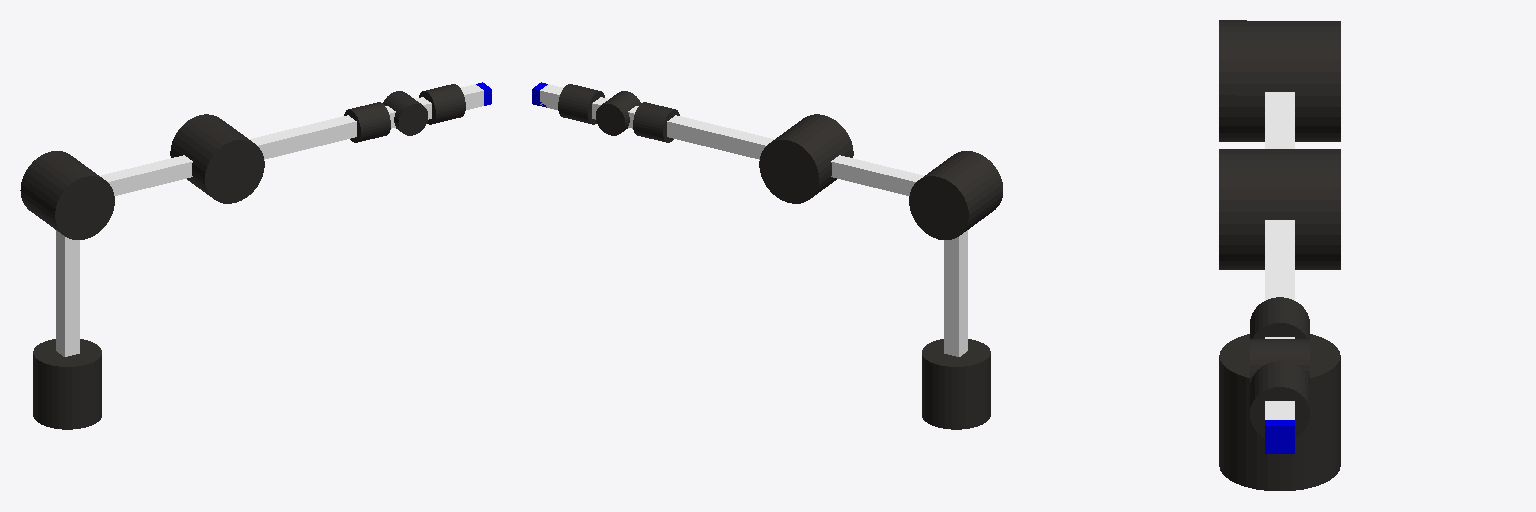
robot.urdf — morpheus:
<?xml version="0.0" ?>
<robot name="morpheus">
  <link name="shoulder">
    <inertial>
      <origin rpy="0 0 0" xyz="0 0 0"/>
       <mass value=".01"/>
       <inertia ixx="0" ixy="0" ixz="0" iyy="0" iyz="0" izz="0"/>
    </inertial>
    <visual>
      <origin rpy="0 0 0" xyz="0 0 0.1"/>
      <geometry>
        <cylinder radius="0.1" length="0.2"/>
      </geometry>
       <material name="grey">
        <color rgba="0.23 0.22 0.21 1"/>
      </material>
    </visual>
    <collision>
      <origin rpy="0 0 0" xyz="0 0 0.1"/>
      <geometry>
       <cylinder radius="0.1" length="0.2"/>
      </geometry>
    </collision>
  </link>

  <link name="elbow">
    <inertial>
      <origin rpy="0 0 0" xyz="0 0 0"/>
       <mass value=".000000001"/>
       <inertia ixx="0" ixy="0" ixz="0" iyy="0" iyz="0" izz="0"/>
    </inertial>
    <visual>
      <origin rpy="0 0 0" xyz="0 0 0.25"/>
      <geometry>
        <box size="0.05 0.05 0.5"/>
      </geometry>
       <material name="white">
        <color rgba="1 1 1 1"/>
      </material>
    </visual>
    <collision>
      <origin rpy="0 0 0" xyz="0 0 0.25"/>
      <geometry>
       <box size="0.05 0.05 0.5"/>
      </geometry>
    </collision>
  </link>

  <joint name="shoulder_to_elbow" type="revolute">
    <parent link="shoulder"/>
    <child link="elbow"/>
    <origin rpy="0 0 0" xyz="0 0 0.2"/>
    <axis xyz="0 0 1"/>
    <limit lower="-3.1415" upper="3.1415" effort="10" velocity="0.25"/>
  </joint>

  <link name="cap">
    <inertial>
      <origin rpy="0 0 0" xyz="0 0 0"/>
       <mass value=".000000001"/>
       <inertia ixx="0" ixy="0" ixz="0" iyy="0" iyz="0" izz="0"/>
    </inertial>
    <visual>
      <origin rpy="1.57 0  0" xyz="0 0 0.05"/>
      <geometry>
        <cylinder radius="0.1" length="0.2"/>
      </geometry>
       <material name="grey">
        <color rgba="0.23 0.22 0.21 1"/>
      </material>
    </visual>
    <collision>
      <origin rpy="1.57 0  0 " xyz="0 0 0.05"/>
      <geometry>
       <cylinder radius="0.1" length="0.2"/>
      </geometry>
    </collision>
  </link>

  <joint name="elbow_to_cap" type="fixed">
    <parent link="elbow"/>
    <child link="cap"/>
    <origin rpy="0 0 0" xyz="0 0 0.45"/>
    <axis xyz="0 0 1"/>
  </joint>

  <link name="ulna">
    <inertial>
      <origin rpy="0 1.57 0" xyz="0 0 0"/>
       <mass value=".000000001"/>
       <inertia ixx="0" ixy="0" ixz="0" iyy="0" iyz="0" izz="0"/>
    </inertial>
    <visual>
      <origin rpy="0 1.57 0" xyz="0.25 0 0"/>
      <geometry>
        <box size="0.05 0.05 0.5"/>
      </geometry>
       <material name="white">
        <color rgba="1 1 1 1"/>
      </material>
    </visual>
    <collision>
      <origin rpy="0 1.57 0" xyz="0.25 0 0"/>
      <geometry>
       <box size="0.05 0.05 0.5"/>
      </geometry>
    </collision>
  </link>

  <joint name="cap_to_ulna" type="revolute">
    <parent link="cap"/>
    <child link="ulna"/>
    <origin rpy="0 0 0" xyz="0 0 0.05"/>
    <axis xyz="0 1 0"/>
    <limit lower="-3.1415" upper="3.1415" effort="10" velocity="0.25"/>
  </joint>

  <link name="carpal">
    <inertial>
      <origin rpy="0 0 0" xyz="0 0 0"/>
       <mass value=".000000001"/>
       <inertia ixx="0" ixy="0" ixz="0" iyy="0" iyz="0" izz="0"/>
    </inertial>
    <visual>
      <origin rpy="1.57 0  0" xyz="0 0 0.0"/>
      <geometry>
        <cylinder radius="0.1" length="0.2"/>
      </geometry>
       <material name="grey">
        <color rgba="0.23 0.22 0.21 1"/>
      </material>
    </visual>
    <collision>
      <origin rpy="1.57 0  0 " xyz="0 0 0.0"/>
      <geometry>
       <cylinder radius="0.1" length="0.2"/>
      </geometry>
    </collision>
  </link>

  <joint name="ulna_to_carpal" type="fixed">
    <parent link="ulna"/>
    <child link="carpal"/>
    <origin rpy="0 0 0" xyz="0.5 0 0"/>
    <axis xyz="0 0 1"/>
  </joint>

  <!-- Stem -->
  <link name="phalange">
    <inertial>
      <origin rpy="0 1.57 0" xyz="0 0 0"/>
       <mass value=".000000001"/>
       <inertia ixx="0" ixy="0" ixz="0" iyy="0" iyz="0" izz="0"/>
    </inertial>
    <visual>
      <origin rpy="0 1.57 0" xyz="0.25 0 0"/>
      <geometry>
        <box size="0.05 0.05 0.5"/>
      </geometry>
       <material name="white">
        <color rgba="1 1 1 1"/>
      </material>
    </visual>
    <collision>
      <origin rpy="0 1.57 0" xyz="0.25 0 0"/>
      <geometry>
       <box size="0.05 0.05 0.5"/>
      </geometry>
    </collision>
  </link>

  <joint name="carpal_to_phalange" type="revolute">
    <parent link="carpal"/>
    <child link="phalange"/>
    <origin rpy="0 0 0" xyz="0 0 0"/>
    <axis xyz="0 1 0"/>
    <limit lower="-3.1415" upper="3.1415" effort="10" velocity="0.25"/>
  </joint>

  <!-- <link name="ee">
    <inertial>
      <origin rpy="0 1.57 0" xyz="0 0 0"/>
       <mass value=".000000001"/>
       <inertia ixx="0" ixy="0" ixz="0" iyy="0" iyz="0" izz="0"/>
    </inertial>
    <visual>
      <origin rpy="0 1.57 0" xyz="0.0 0 0"/>
      <geometry>
        <box size="0.05 0.05 0.05"/>
      </geometry>
       <material name="blue">
        <color rgba="0.01 0.01 1 1"/>
      </material>
    </visual>
    <collision>
      <origin rpy="0 1.57 0" xyz="0.0 0 0"/>
      <geometry>
       <box size="0.05 0.05 0.05"/>
      </geometry>
    </collision>
  </link>

  <joint name="phalange_to_ee" type="fixed">
    <parent link="phalange"/>
    <child link="ee"/>
    <origin rpy="0 0 0" xyz="0.5 0. 0.0"/>
  </joint> -->

  <link name="j4">
    <inertial>
      <origin rpy="0 0 0" xyz="0 0 0"/>
       <mass value=".000000001"/>
       <inertia ixx="0" ixy="0" ixz="0" iyy="0" iyz="0" izz="0"/>
    </inertial>
    <visual>
      <origin rpy="0 1.57  0" xyz="0 0 0.0"/>
      <geometry>
        <cylinder radius="0.05" length="0.1"/>
      </geometry>
       <material name="grey">
        <color rgba="0.23 0.22 0.21 1"/>
      </material>
    </visual>
    <collision>
      <origin rpy="0 1.57  0 " xyz="0 0 0.0"/>
      <geometry>
       <cylinder radius="0.05" length="0.1"/>
      </geometry>
    </collision>
  </link>

  <joint name="phalange_to_j4" type="fixed">
    <parent link="phalange"/>
    <child link="j4"/>
    <origin rpy="0 0 0" xyz="0.5 0. 0.0"/>
  </joint> 

  <link name="l4">
    <inertial>
      <origin rpy="0 1.57 0" xyz="0 0 0"/>
       <mass value=".000000001"/>
       <inertia ixx="0" ixy="0" ixz="0" iyy="0" iyz="0" izz="0"/>
    </inertial>
    <visual>
      <origin rpy="0 1.57 0" xyz="0.0625 0 0"/>
      <geometry>
        <box size="0.05 0.05 0.125"/>
      </geometry>
       <material name="white">
        <color rgba="1 1 1 1"/>
      </material>
    </visual>
    <collision>
      <origin rpy="0 1.57 0" xyz="0.0625 0 0"/>
      <geometry>
       <box size="0.05 0.05 0.125"/>
      </geometry>
    </collision>
  </link>

  <joint name="j4_to_l4" type="revolute">
    <parent link="j4"/>
    <child link="l4"/>
    <origin rpy="0 0 0" xyz="0 0 0"/>
    <axis xyz="1 0 0"/>
    <limit lower="-3.1415" upper="3.1415" effort="10" velocity="0.25"/>
  </joint>

  <link name="j5">
    <inertial>
      <origin rpy="0 0 0" xyz="0 0 0"/>
       <mass value=".000000001"/>
       <inertia ixx="0" ixy="0" ixz="0" iyy="0" iyz="0" izz="0"/>
    </inertial>
    <visual>
      <origin rpy="1.57 0  0" xyz="0 0 0.0"/>
      <geometry>
        <cylinder radius="0.05" length="0.1"/>
      </geometry>
       <material name="grey">
        <color rgba="0.23 0.22 0.21 1"/>
      </material>
    </visual>
    <collision>
      <origin rpy="1.57 0  0 " xyz="0 0 0.0"/>
      <geometry>
       <cylinder radius="0.05" length="0.1"/>
      </geometry>
    </collision>
  </link>

  <joint name="l4_to_j5" type="fixed">
    <parent link="l4"/>
    <child link="j5"/>
    <origin rpy="0 0 0" xyz="0.125 0 0"/>
    <axis xyz="0 0 1"/>
  </joint>

 <!--  ]]]]] -->
 <link name="l5">
    <inertial>
      <origin rpy="0 1.57 0" xyz="0 0 0"/>
       <mass value=".000000001"/>
       <inertia ixx="0" ixy="0" ixz="0" iyy="0" iyz="0" izz="0"/>
    </inertial>
    <visual>
      <origin rpy="0 1.57 0" xyz="0.0625 0 0"/>
      <geometry>
        <box size="0.05 0.05 0.125"/>
      </geometry>
       <material name="white">
        <color rgba="1 1 1 1"/>
      </material>
    </visual>
    <collision>
      <origin rpy="0 1.57 0" xyz="0.0625 0 0"/>
      <geometry>
       <box size="0.05 0.05 0.125"/>
      </geometry>
    </collision>
  </link>

  <joint name="j4_to_l5" type="revolute">
    <parent link="j5"/>
    <child link="l5"/>
    <origin rpy="0 0 0" xyz="0 0 0"/>
    <axis xyz="0 1 0"/>
    <limit lower="-3.1415" upper="3.1415" effort="10" velocity="0.25"/>
  </joint>
 
<!--last-->
<link name="j6">
    <inertial>
      <origin rpy="0 0 0" xyz="0 0 0"/>
       <mass value=".000000001"/>
       <inertia ixx="0" ixy="0" ixz="0" iyy="0" iyz="0" izz="0"/>
    </inertial>
    <visual>
      <origin rpy="0 1.57  0" xyz="0 0 0.0"/>
      <geometry>
        <cylinder radius="0.05" length="0.1"/>
      </geometry>
       <material name="grey">
        <color rgba="0.23 0.22 0.21 1"/>
      </material>
    </visual>
    <collision>
      <origin rpy="0 1.57  0 " xyz="0 0 0.0"/>
      <geometry>
       <cylinder radius="0.05" length="0.1"/>
      </geometry>
    </collision>
  </link>

  <joint name="l5_to_j6" type="fixed">
    <parent link="l5"/>
    <child link="j6"/>
    <origin rpy="0 0 0" xyz="0.125 0 0"/>
    <axis xyz="0 0 1"/>
  </joint>

  <!-- ... -->
   <link name="l6">
    <inertial>
      <origin rpy="0 1.57 0" xyz="0 0 0"/>
       <mass value=".000000001"/>
       <inertia ixx="0" ixy="0" ixz="0" iyy="0" iyz="0" izz="0"/>
    </inertial>
    <visual>
      <origin rpy="0 1.57 0" xyz="0.0625 0 0"/>
      <geometry>
        <box size="0.05 0.05 0.125"/>
      </geometry>
       <material name="white">
        <color rgba="1 1 1 1"/>
      </material>
    </visual>
    <collision>
      <origin rpy="0 1.57 0" xyz="0.0625 0 0"/>
      <geometry>
       <box size="0.05 0.05 0.125"/>
      </geometry>
    </collision>
  </link>

  <joint name="j6_to_l6" type="revolute">
    <parent link="j6"/>
    <child link="l6"/>
    <origin rpy="0 0 0" xyz="0 0 0"/>
    <axis xyz="1 0 0"/>
    <limit lower="-3.1415" upper="3.1415" effort="10" velocity="0.25"/>
  </joint>
  
<link name="ee">
    <inertial>
      <origin rpy="0 0 0" xyz="0 0 0"/>
       <mass value=".000000001"/>
       <inertia ixx="0" ixy="0" ixz="0" iyy="0" iyz="0" izz="0"/>
    </inertial>
    <visual>
      <origin rpy="0 0 0" xyz="0. 0 0"/>
      <geometry>
        <box size="0.05 0.05 0.05"/>
      </geometry>
       <material name="blue">
        <color rgba="0.01 0.01 1 1"/>
      </material>
    </visual>
    <collision>
      <origin rpy="0 0 0" xyz="0. 0 0"/>
      <geometry>
       <box size="0.05 0.05 0.05"/>
      </geometry>
    </collision>
  </link>

  <joint name="l6_to_ee" type="fixed">
    <parent link="l6"/>
    <child link="ee"/>
    <origin rpy="0 0 0" xyz="0.125 0 0"/>
  </joint>



</robot>

--- Facts derived from the render (not from the file) ---
The picture shows the robot from 3 angles, left to right: view 1: azimuth 30°, elevation 25°; view 2: azimuth 150°, elevation 25°; view 3: azimuth 270°, elevation 25°; orthographic projection.
Model morpheus with 13 links and 12 joints (6 revolute, 6 fixed), rooted at shoulder, posed every joint at zero.
Visible links, largest first — view 1: cap, carpal, shoulder, elbow, phalange, ulna, j5, j4, j6; view 2: cap, carpal, shoulder, elbow, phalange, ulna, j5, j4, j6; view 3: cap, carpal, shoulder, j6, phalange, j4, ulna, j5, ee, l6.
Boxes of the visible links, x1,y1,x2,y2 form: cap: [20, 151, 114, 239]; carpal: [170, 114, 264, 203]; shoulder: [33, 339, 101, 429]; elbow: [56, 230, 79, 356]; phalange: [249, 115, 356, 159]; ulna: [100, 155, 192, 195]; j5: [383, 91, 427, 135]; j4: [344, 102, 390, 142]; j6: [419, 84, 465, 124]; cap: [909, 151, 1002, 239]; carpal: [759, 114, 853, 203]; shoulder: [922, 339, 990, 429]; elbow: [944, 230, 967, 356]; phalange: [667, 115, 774, 159]; ulna: [831, 155, 923, 195]; j5: [596, 91, 640, 135]; j4: [633, 102, 679, 142]; j6: [558, 84, 604, 124]; cap: [1219, 20, 1340, 141]; carpal: [1219, 149, 1340, 269]; shoulder: [1219, 334, 1340, 490]; j6: [1250, 361, 1309, 437]; phalange: [1265, 220, 1294, 300]; j4: [1250, 297, 1309, 338]; ulna: [1265, 92, 1294, 148]; j5: [1250, 339, 1309, 382]; ee: [1265, 420, 1294, 453]; l6: [1265, 401, 1294, 419].
Size in the robot's own frame: 1.5 by 0.2002 by 0.8001 metres.
Geometry: primitives only (box / cylinder / sphere), no mesh files.
